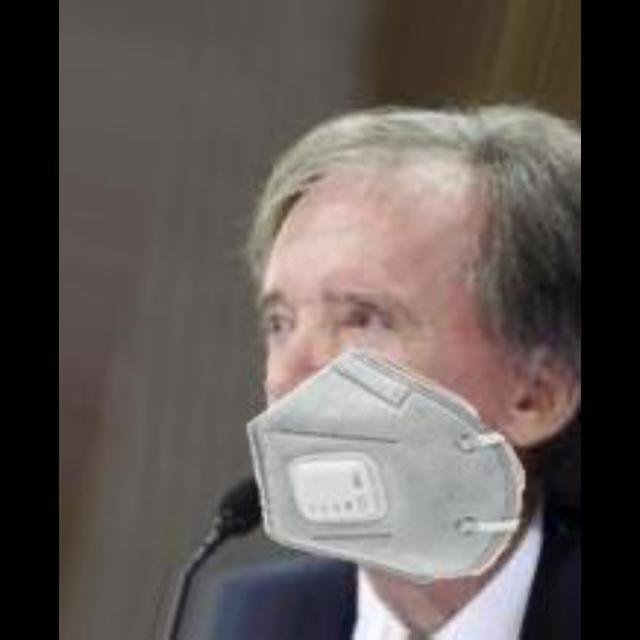suspicion: (234, 140, 550, 540)
